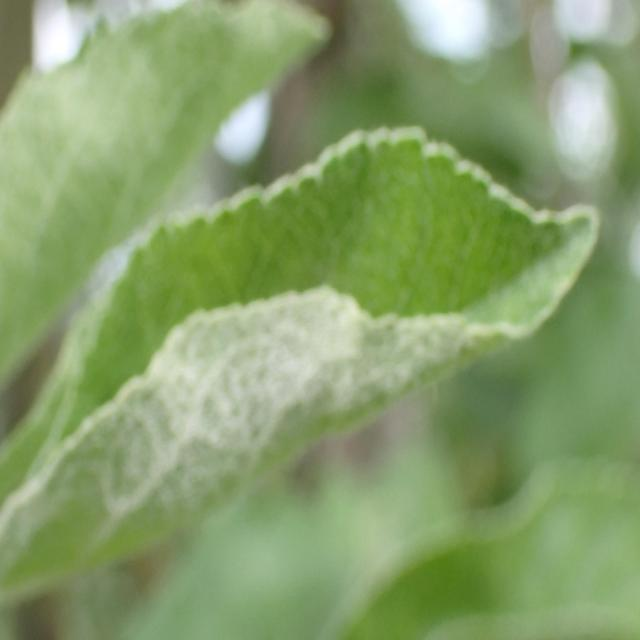Powdery_mildew: (0, 121, 600, 582)
